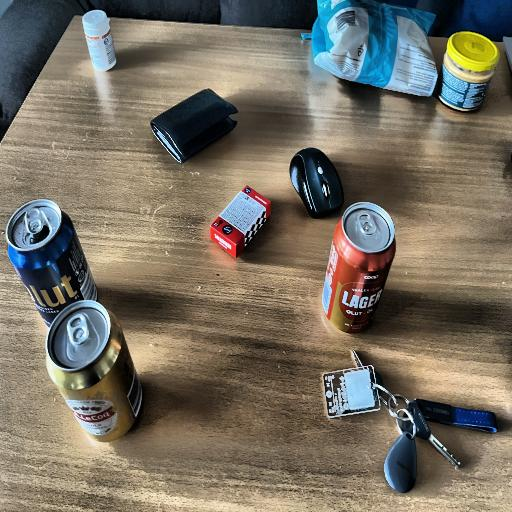A_LeCoq: (49, 305, 140, 445)
coop_larger: (314, 204, 399, 349), (3, 199, 101, 314)
